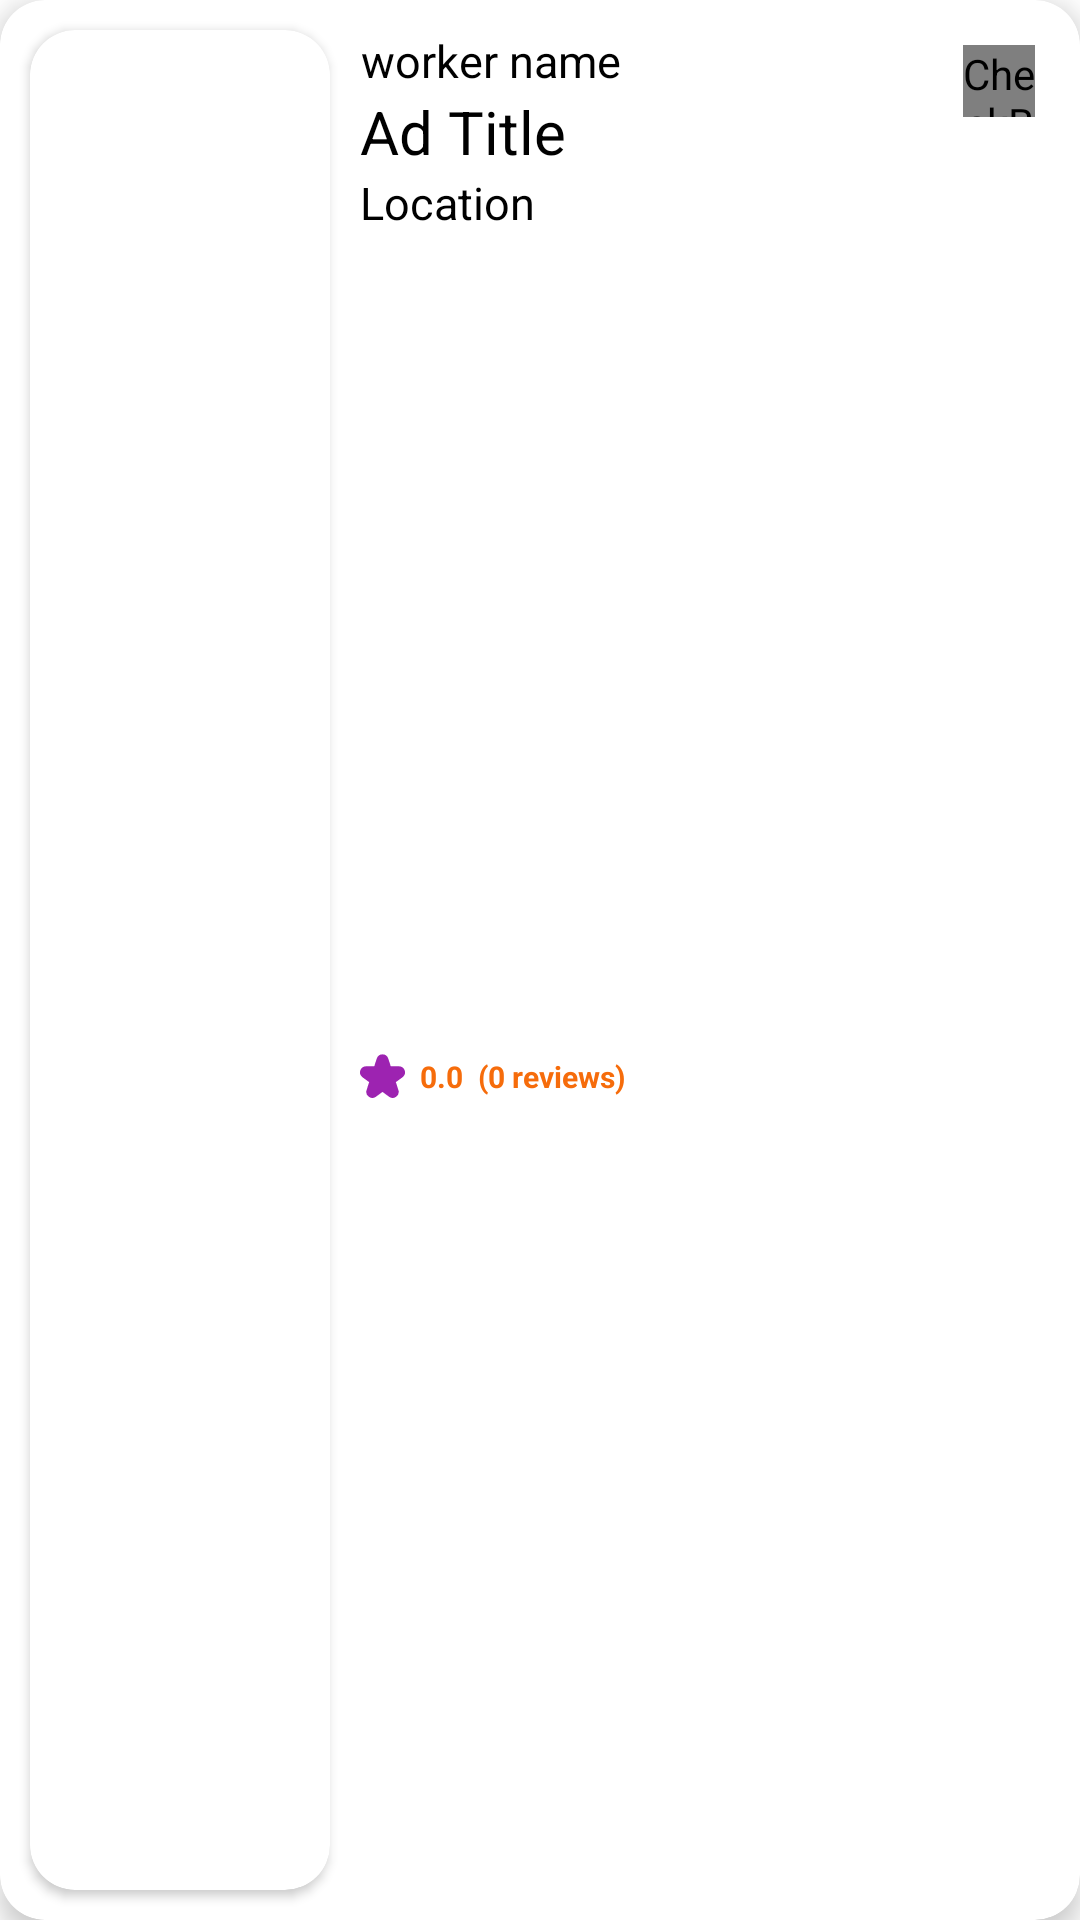

Point at icon controls on the screen. Image size 1080*1920, points as point (x, y).
star: point (382, 1076)
